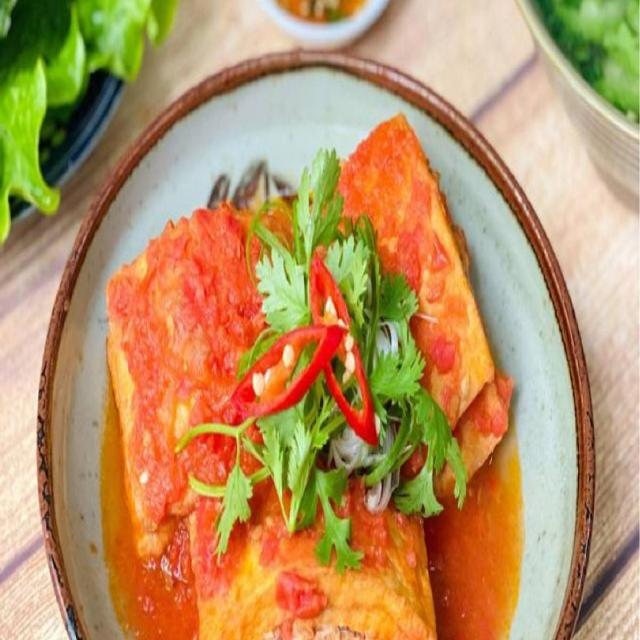dau hu: (106, 115, 522, 639)
